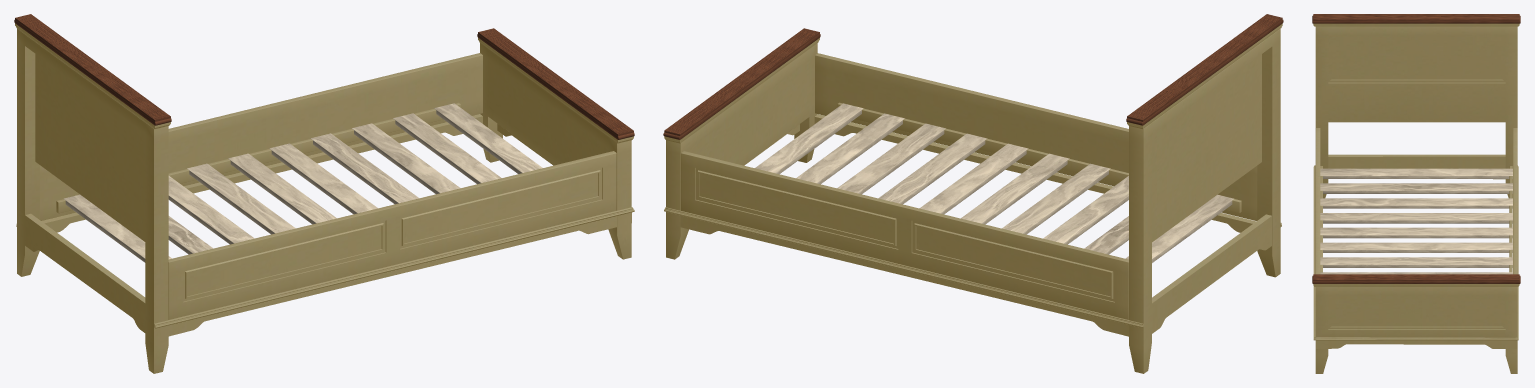
File: example40.glb
The picture shows the model from 3 angles, left to right: view 1: azimuth 30°, elevation 25°; view 2: azimuth 150°, elevation 25°; view 3: azimuth 270°, elevation 25°; orthographic projection. The views are drawn at different scales.
Parts seen in each view (by area): view 1: Merged Objects, Merged Objects 1, Merged Objects 2; view 2: Merged Objects, Merged Objects 1, Merged Objects 2; view 3: Merged Objects, Merged Objects 1, Merged Objects 2.
Boxes of the visible parts, x1,y1,x2,y2 form: Merged Objects: [15, 23, 634, 373]; Merged Objects 1: [63, 103, 542, 262]; Merged Objects 2: [14, 14, 634, 139]; Merged Objects: [664, 23, 1282, 373]; Merged Objects 1: [755, 103, 1233, 262]; Merged Objects 2: [663, 14, 1283, 139]; Merged Objects: [1313, 23, 1519, 373]; Merged Objects 1: [1320, 168, 1512, 274]; Merged Objects 2: [1312, 14, 1520, 283].
Size of the model in its own units: 1.71 by 0.8693 by 0.8729.
3 materials, 3 textured.
